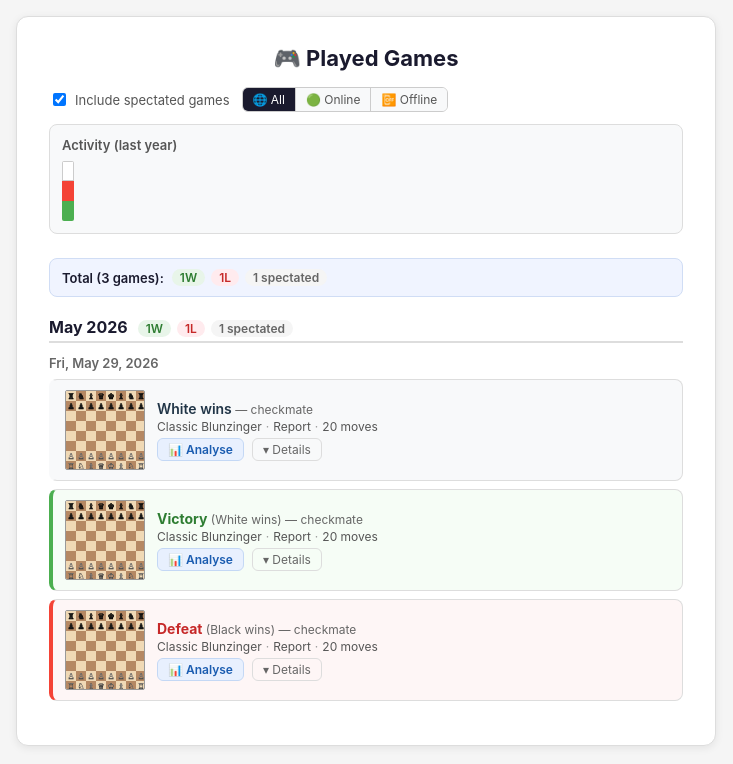
Test: PlayedGamesSection › connection filter (online/offline) › works together with spectated filter
This screenshot has width=733, height=764.
# Filter to online + uncheck spectated
Click the radio button labelled "🟢 Online".
click(334, 100)  # box x1=296 y1=88 x2=371 y2=111
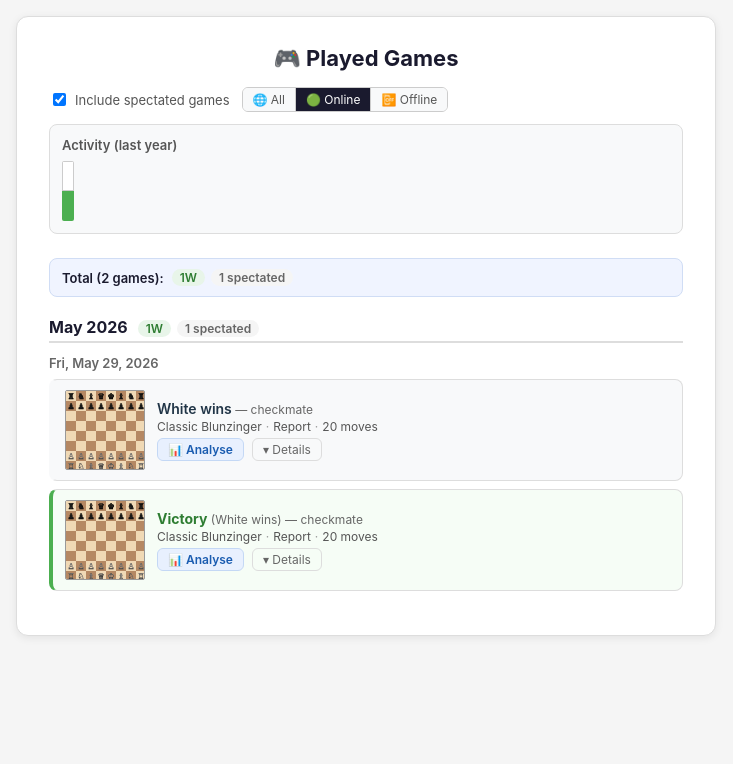
Click the checkbox labelled "Include spectated games".
click(60, 100)  # box x1=53 y1=93 x2=66 y2=106
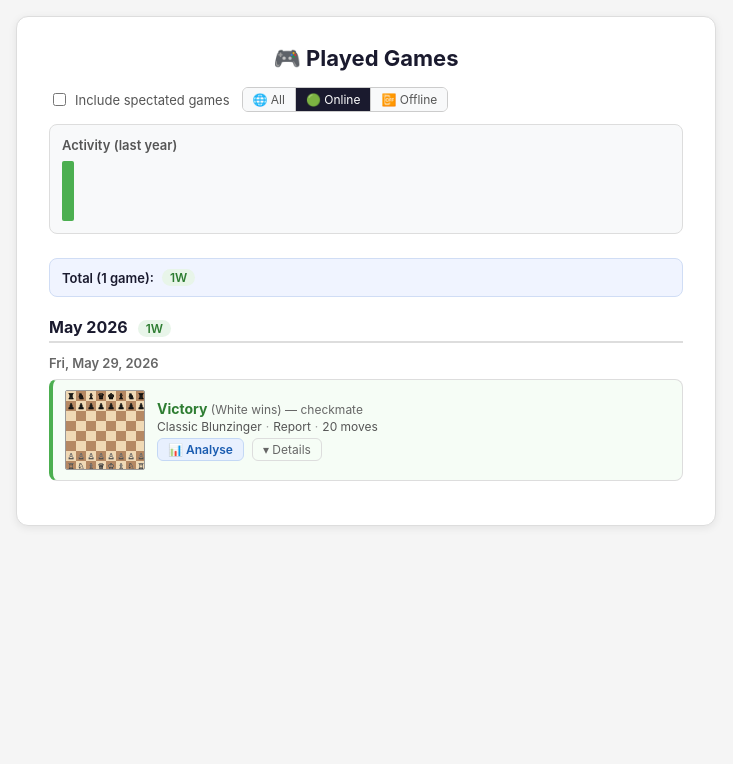
Expected: the text "Victory" is shown, x1=157 y1=400 x2=207 y2=416
Result: the text "Total (1 game):" is shown at x1=62 y1=270 x2=154 y2=286
